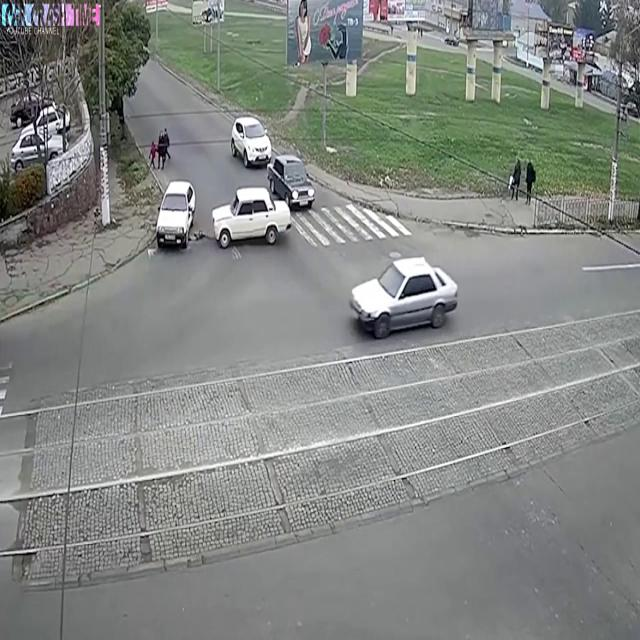accident: (152, 174, 296, 260)
